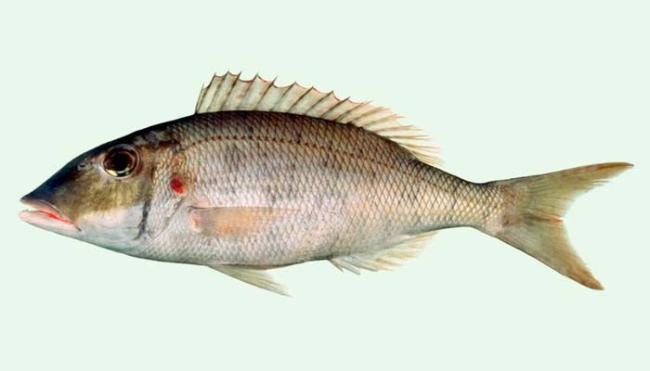fish: (17, 70, 635, 298)
